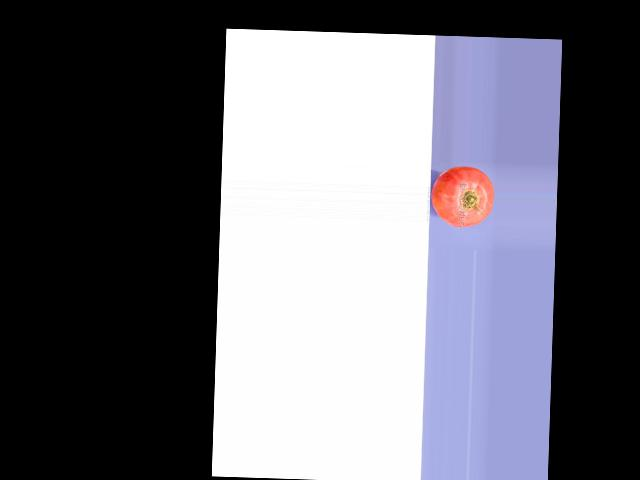tomato: (431, 164, 494, 228)
